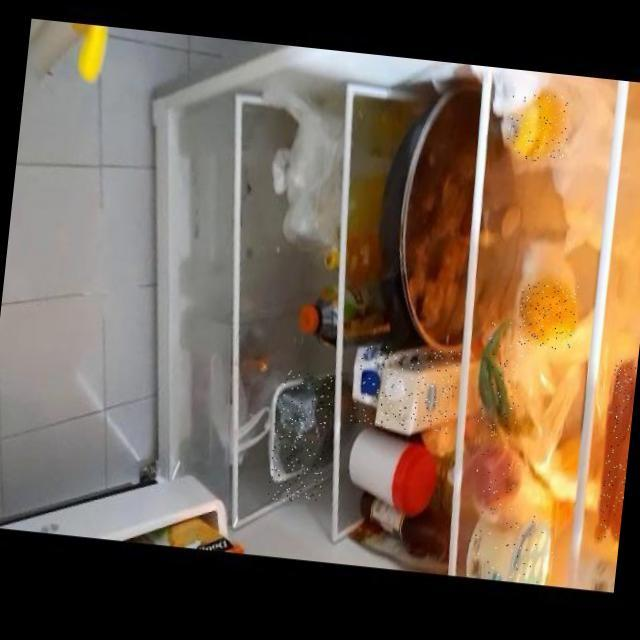Yogur: (464, 509, 555, 584)
Zanahoria: (595, 356, 638, 542)
